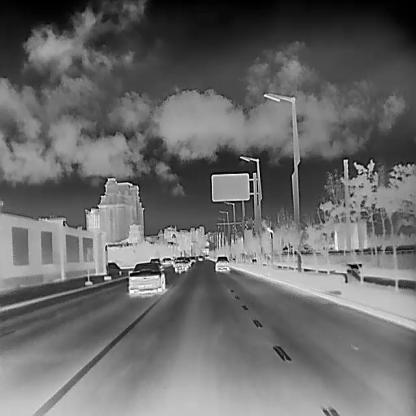car: (126, 261, 165, 293), (214, 255, 229, 271), (173, 255, 188, 271), (160, 256, 171, 265), (189, 255, 195, 262), (196, 254, 202, 260), (204, 254, 209, 259)
